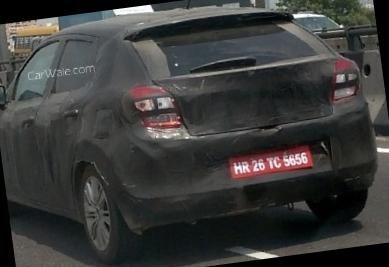plate: (220, 137, 320, 182)
